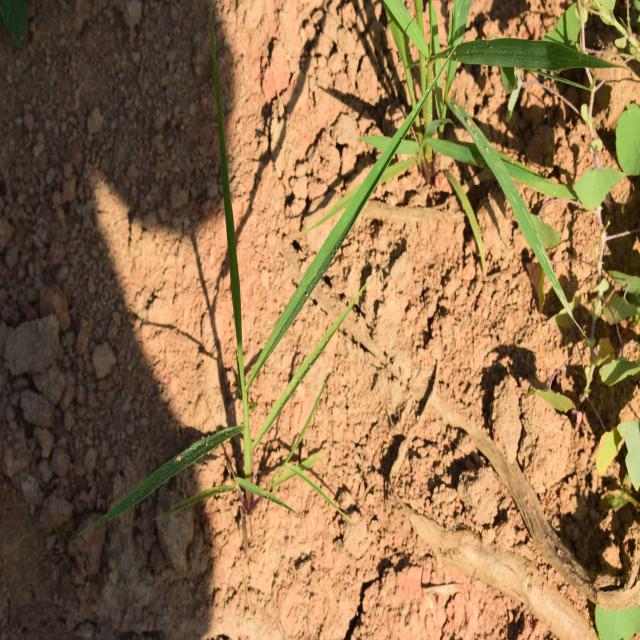green_foxtail: (122, 146, 388, 518), (368, 6, 594, 198)
